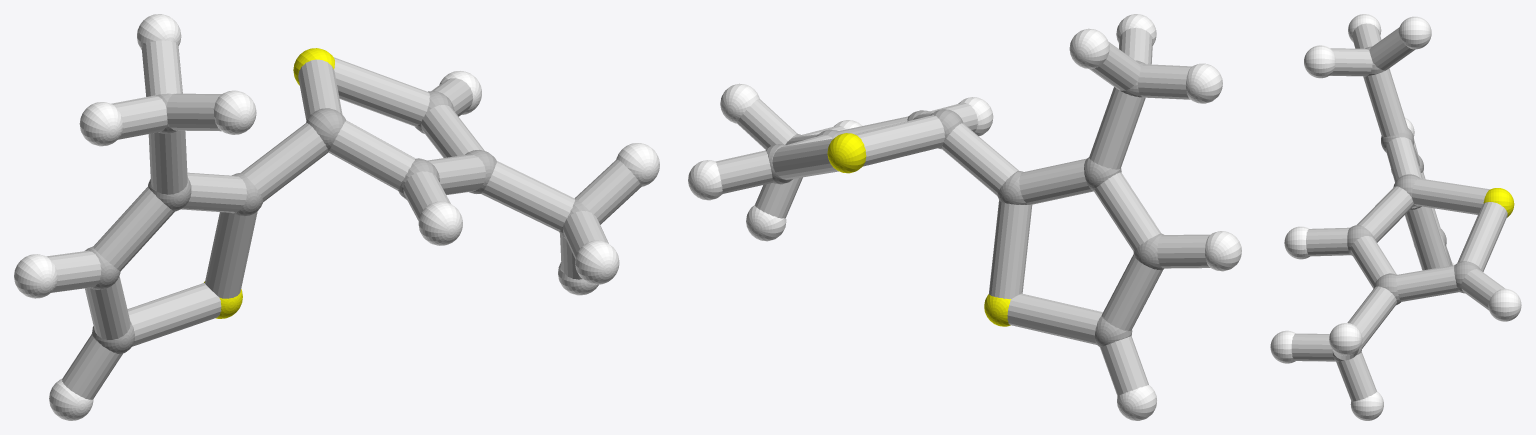
Rendered from Methylthiophene_Phi_50_Theta_270_Methylthiophene.glb.
3 views of the same model, side by side, from view 1: azimuth 30°, elevation 25°; view 2: azimuth 150°, elevation 25°; view 3: azimuth 270°, elevation 25° (orthographic). The views are drawn at different scales.
Parts seen in each view (by area): view 1: grp7965, grp3621, grp1, grp7241; view 2: grp7965, grp3621, grp1, grp7241; view 3: grp7965, grp3621, grp1, grp7241.
Boxes of the visible parts, <box> form: grp7965: <box>46,40,641,399</box>; grp3621: <box>14,14,659,420</box>; grp1: <box>85,91,590,354</box>; grp7241: <box>204,48,334,318</box>; grp7965: <box>715,27,1210,395</box>; grp3621: <box>688,14,1241,420</box>; grp1: <box>766,60,1163,347</box>; grp7241: <box>827,133,1010,326</box>; grp7965: <box>1291,23,1507,401</box>; grp3621: <box>1270,14,1521,420</box>; grp1: <box>1332,46,1481,361</box>; grp7241: <box>1483,188,1514,217</box>.
Size of the model in its own units: 9.4 by 5.92 by 4.53.
